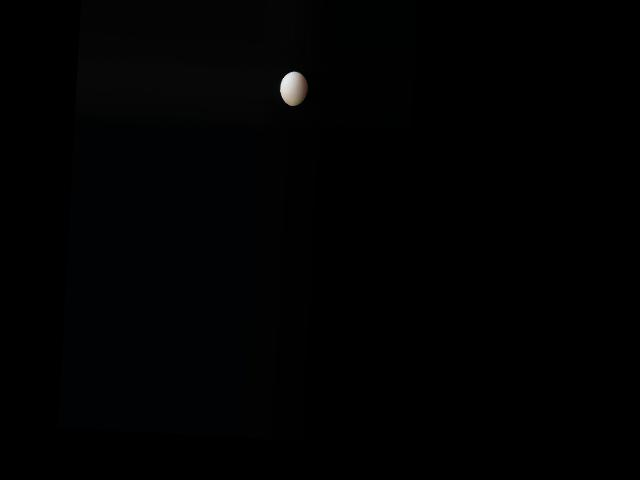egg: (279, 72, 308, 107)
